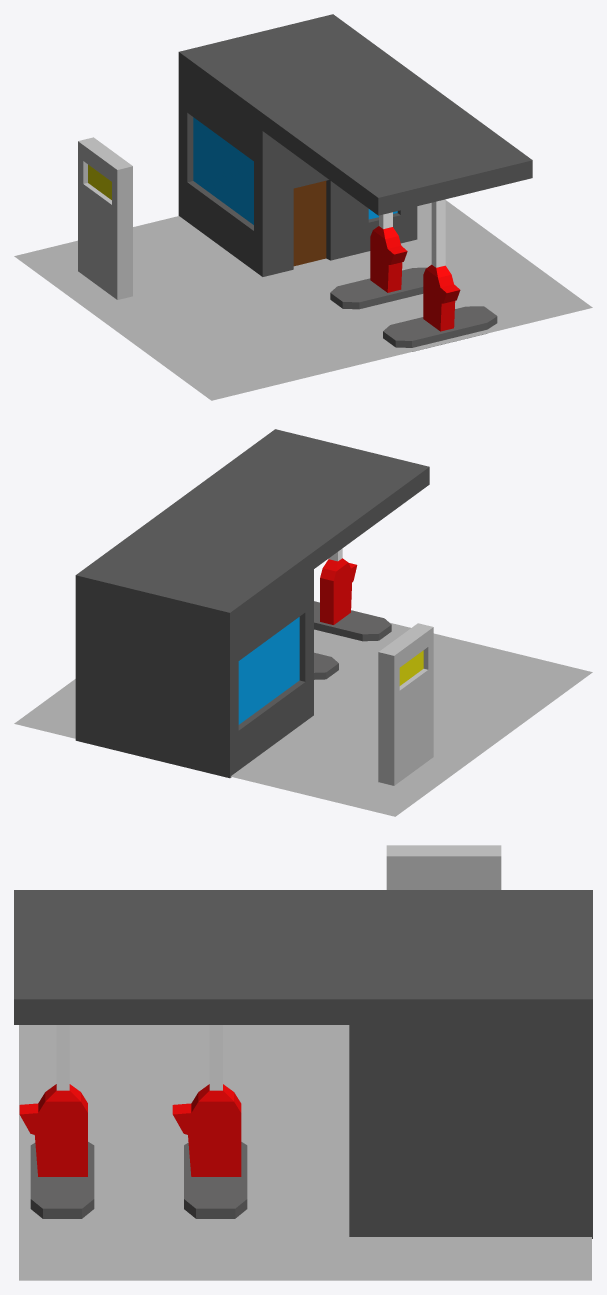
File: GasStation.obj
3 renders of one model, top to bottom at view 1: azimuth 30°, elevation 25°; view 2: azimuth 150°, elevation 25°; view 3: azimuth 270°, elevation 25°, orthographic. The views are drawn at different scales.
Visible parts, largest first — view 1: Cube.002_Cube.005; view 2: Cube.002_Cube.005; view 3: Cube.002_Cube.005.
Part boxes in pixels (x1,y1,x2,y2): Cube.002_Cube.005: (14, 14, 592, 400); Cube.002_Cube.005: (14, 429, 592, 816); Cube.002_Cube.005: (14, 845, 592, 1280).
Bounding box in the file's own units: 20.11 × 8.5 × 18.23.
